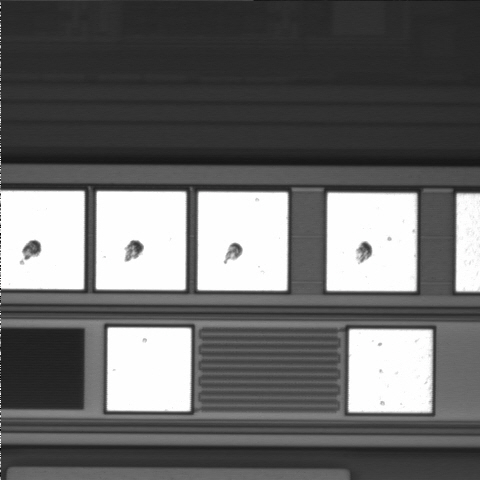pad: (96, 191, 186, 290), (198, 192, 288, 291), (327, 193, 417, 291), (107, 328, 191, 411), (349, 329, 432, 412)
